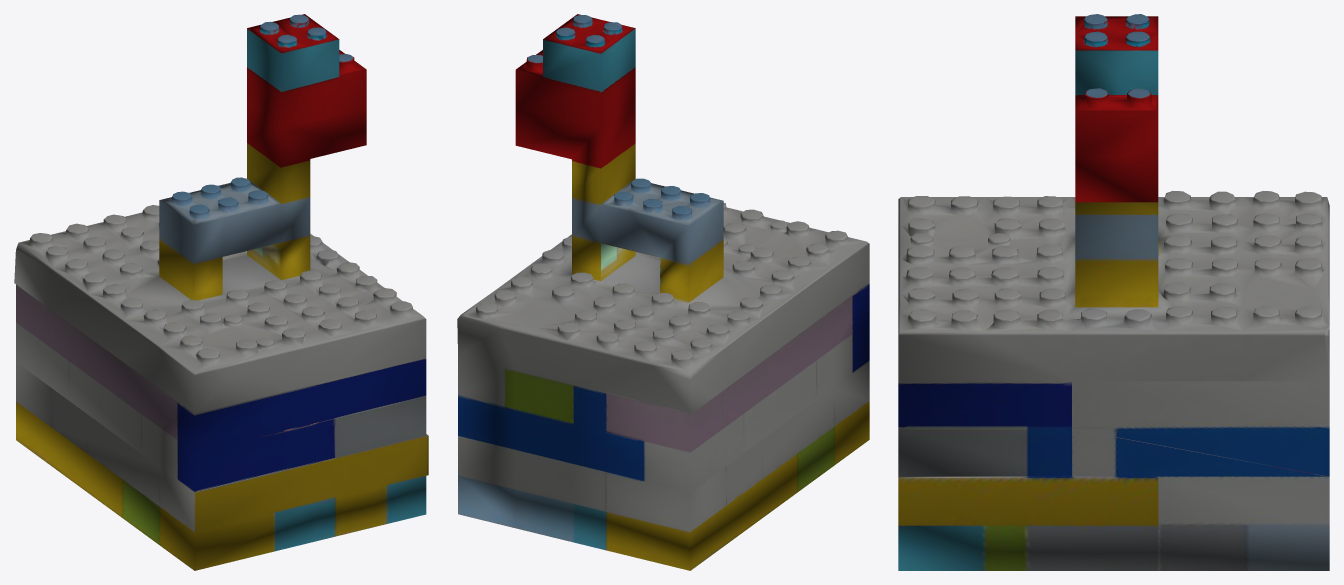
Rendered from object_25_asset_0898bf5f.glb.
3 views of the same model, side by side, from view 1: azimuth 30°, elevation 25°; view 2: azimuth 150°, elevation 25°; view 3: azimuth 270°, elevation 25° (orthographic). The views are drawn at different scales.
Visible parts, largest first — view 1: tripo_node_3d4cb9c6-3aeb-4ed1-a146-71ffa69afdb9; view 2: tripo_node_3d4cb9c6-3aeb-4ed1-a146-71ffa69afdb9; view 3: tripo_node_3d4cb9c6-3aeb-4ed1-a146-71ffa69afdb9.
Part boxes in pixels (x1,y1,x2,y2): tripo_node_3d4cb9c6-3aeb-4ed1-a146-71ffa69afdb9: (14, 14, 428, 570); tripo_node_3d4cb9c6-3aeb-4ed1-a146-71ffa69afdb9: (457, 14, 869, 570); tripo_node_3d4cb9c6-3aeb-4ed1-a146-71ffa69afdb9: (898, 14, 1329, 570).
Bounding box in the file's own units: 0.5996 × 0.998 × 0.752.
Materials: 1 (1 with a texture image).
